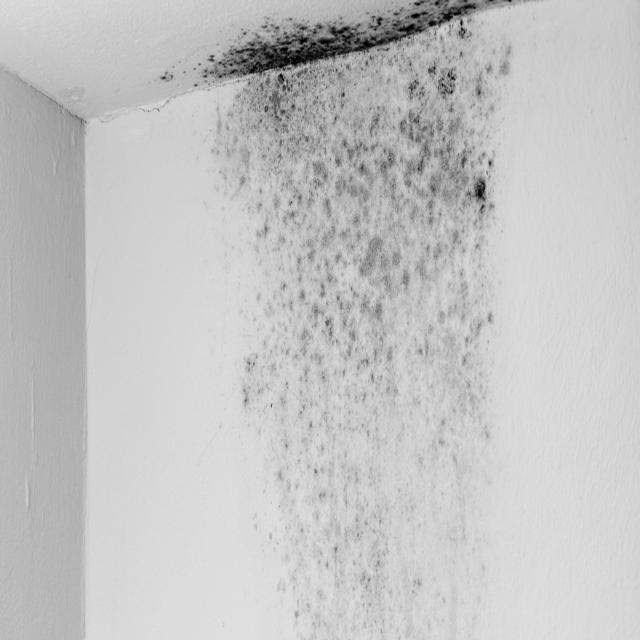stain marks: (140, 0, 514, 640)
